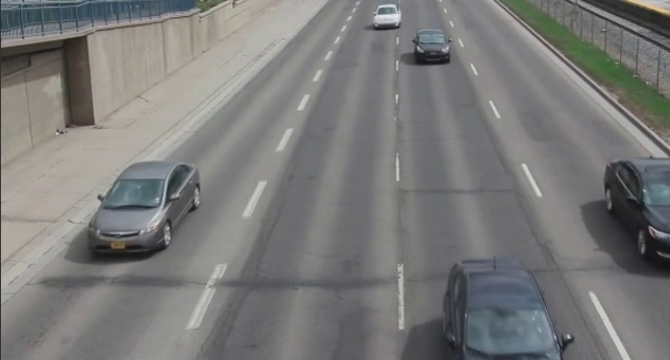car: (441, 254, 578, 360), (87, 160, 196, 259), (605, 149, 670, 262), (406, 27, 456, 68), (368, 3, 404, 30)
